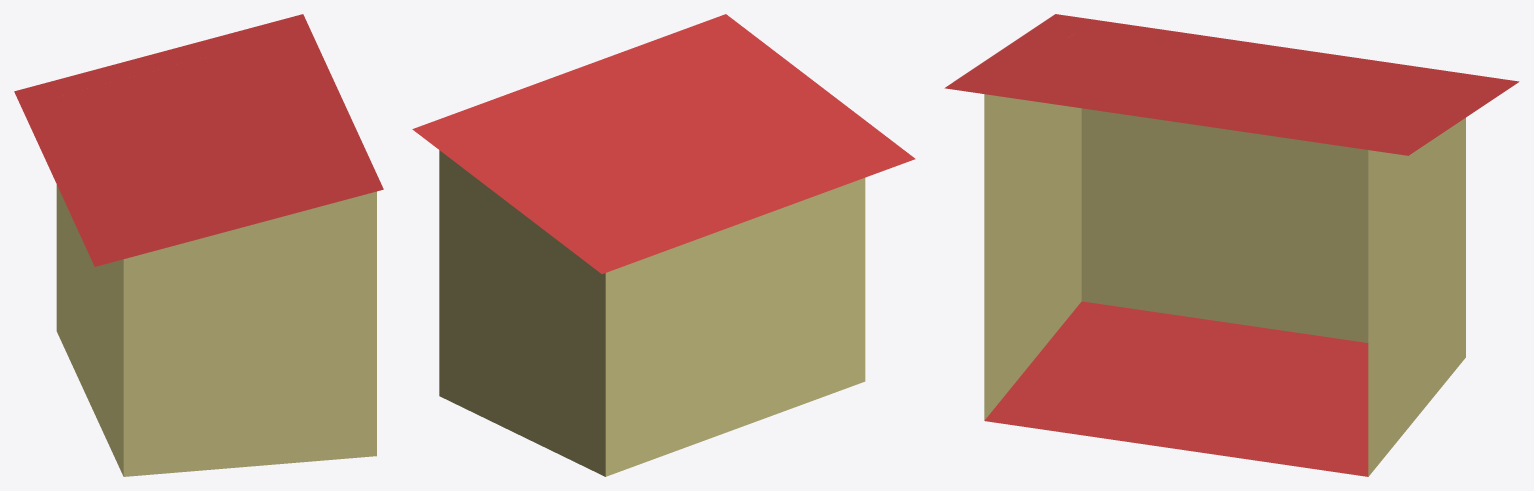
3 renders of one model, left to right at view 1: azimuth 30°, elevation 25°; view 2: azimuth 150°, elevation 25°; view 3: azimuth 270°, elevation 25°, orthographic. The views are drawn at different scales.
Size of the model in its own units: 8.56 by 10.19 by 6.39.
